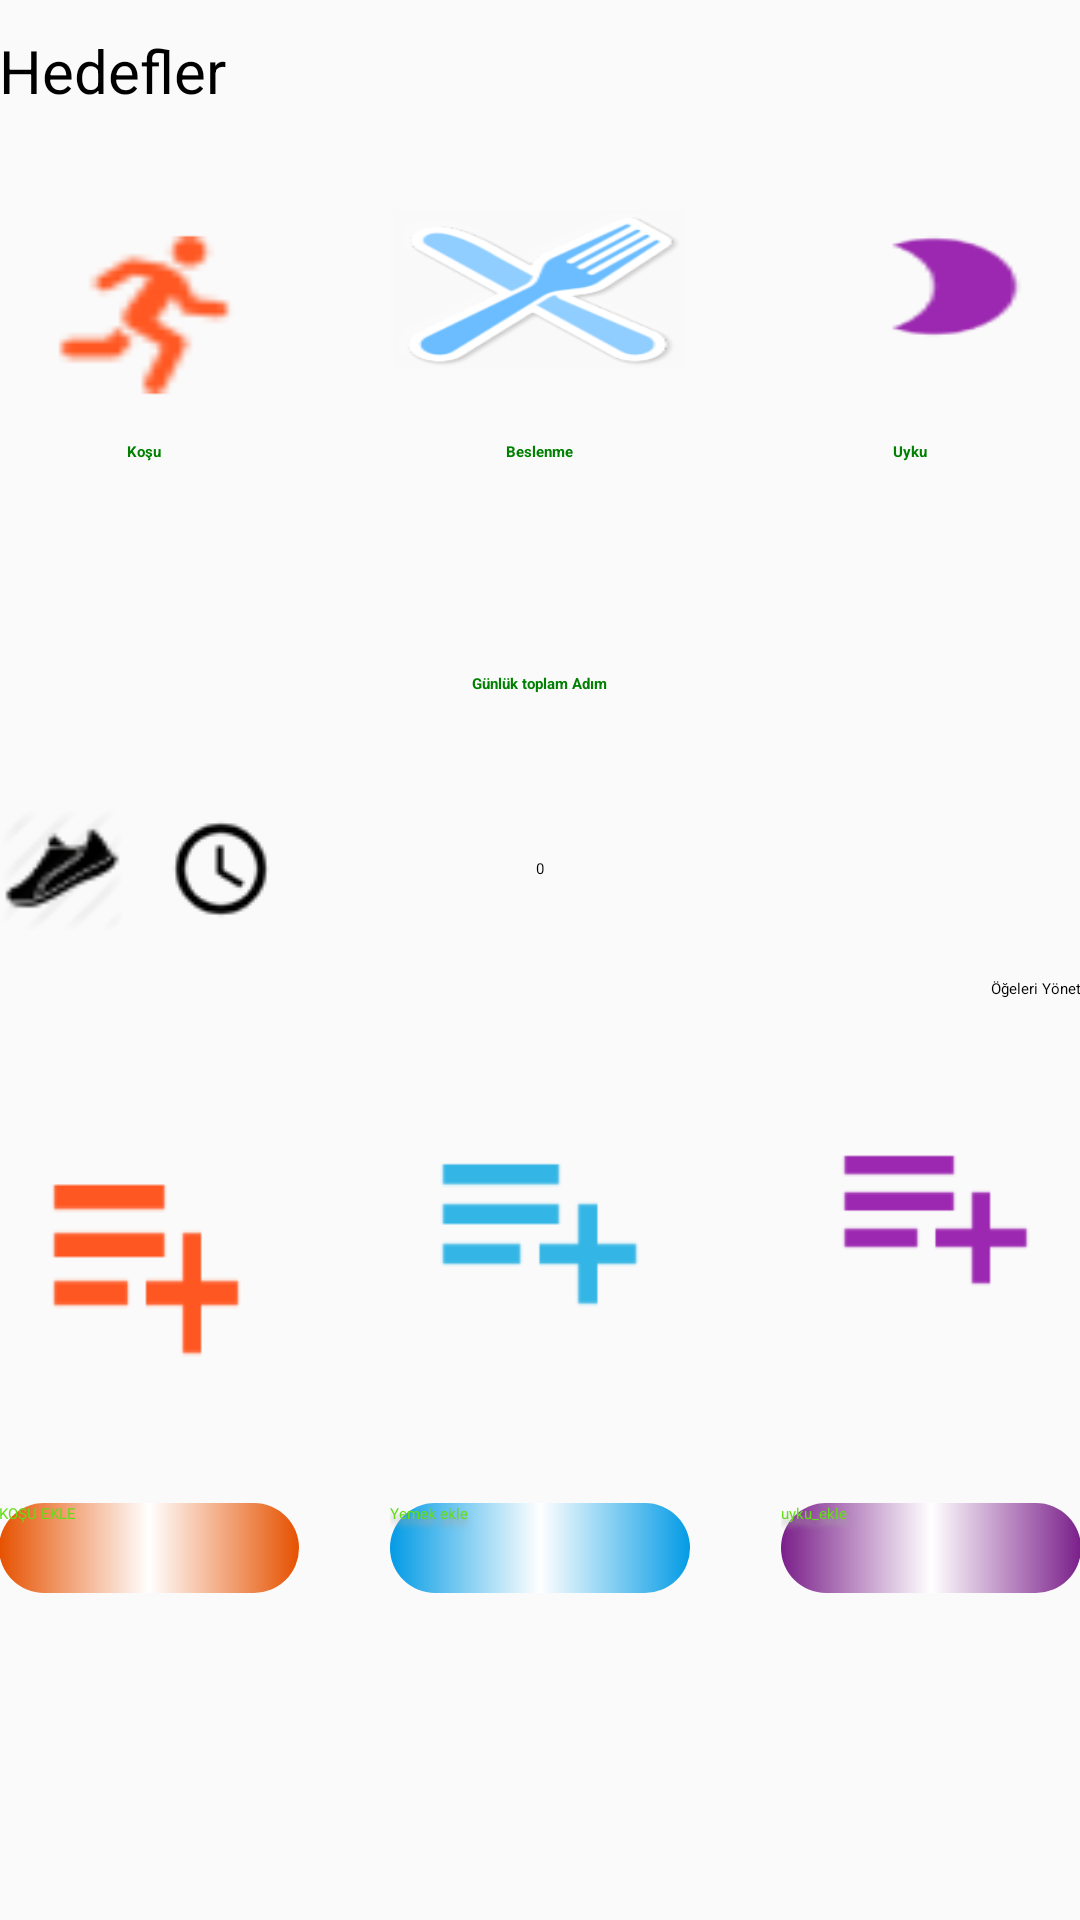

Where to tap for icons on this 1080 x 1920 app screen, as [x,y]:
adim: [62,868]
beslenmeekle: [540,1234]
chronomether: [221,869]
kosuekle: [146,1269]
yemek: [544,291]
